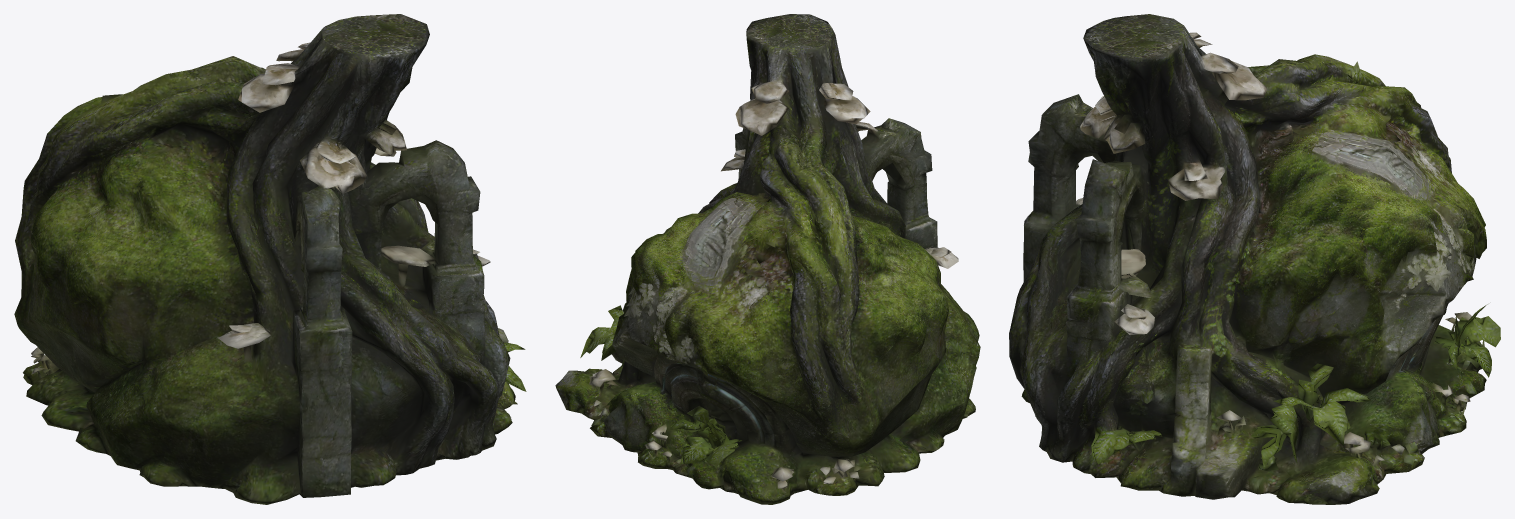
Rendered from env_bw_boulder.glb.
3 renders of one model, left to right at view 1: azimuth 30°, elevation 25°; view 2: azimuth 150°, elevation 25°; view 3: azimuth 270°, elevation 25°, orthographic. The views are drawn at different scales.
Parts seen in each view (by area): view 1: tripo_node_16181f37-3cda-4acc-ad13-f5712417ada4; view 2: tripo_node_16181f37-3cda-4acc-ad13-f5712417ada4; view 3: tripo_node_16181f37-3cda-4acc-ad13-f5712417ada4.
Boxes of the visible parts, x1,y1,x2,y2 form: tripo_node_16181f37-3cda-4acc-ad13-f5712417ada4: [14, 14, 526, 504]; tripo_node_16181f37-3cda-4acc-ad13-f5712417ada4: [555, 14, 980, 504]; tripo_node_16181f37-3cda-4acc-ad13-f5712417ada4: [1009, 14, 1500, 504].
Size of the model in its own units: 0.9671 by 0.8714 by 1.
Materials: 1 (1 with a texture image).
